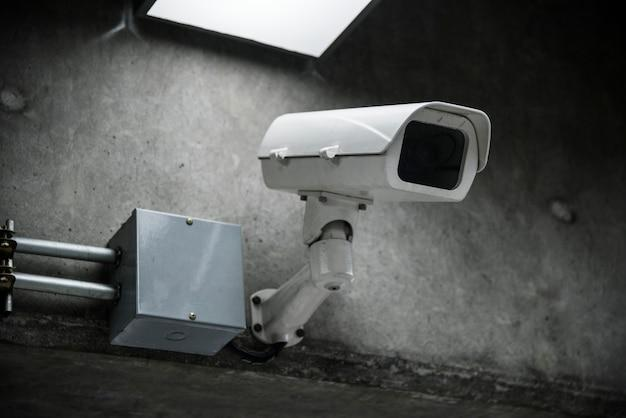camera: (224, 63, 503, 233)
